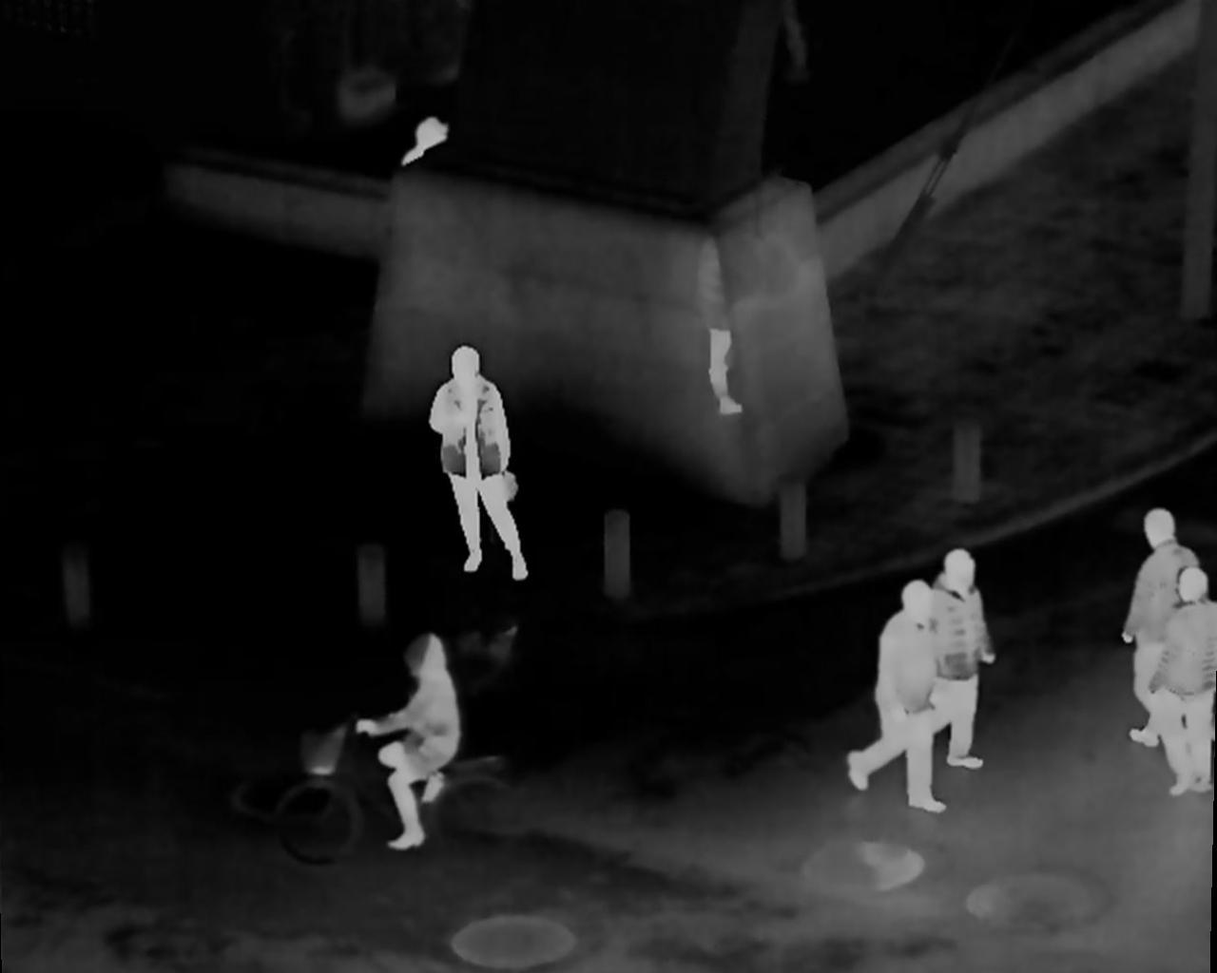person: (838, 582, 949, 812), (433, 341, 531, 587), (361, 633, 462, 849), (1126, 506, 1200, 753), (924, 552, 990, 770), (1167, 573, 1217, 792)
